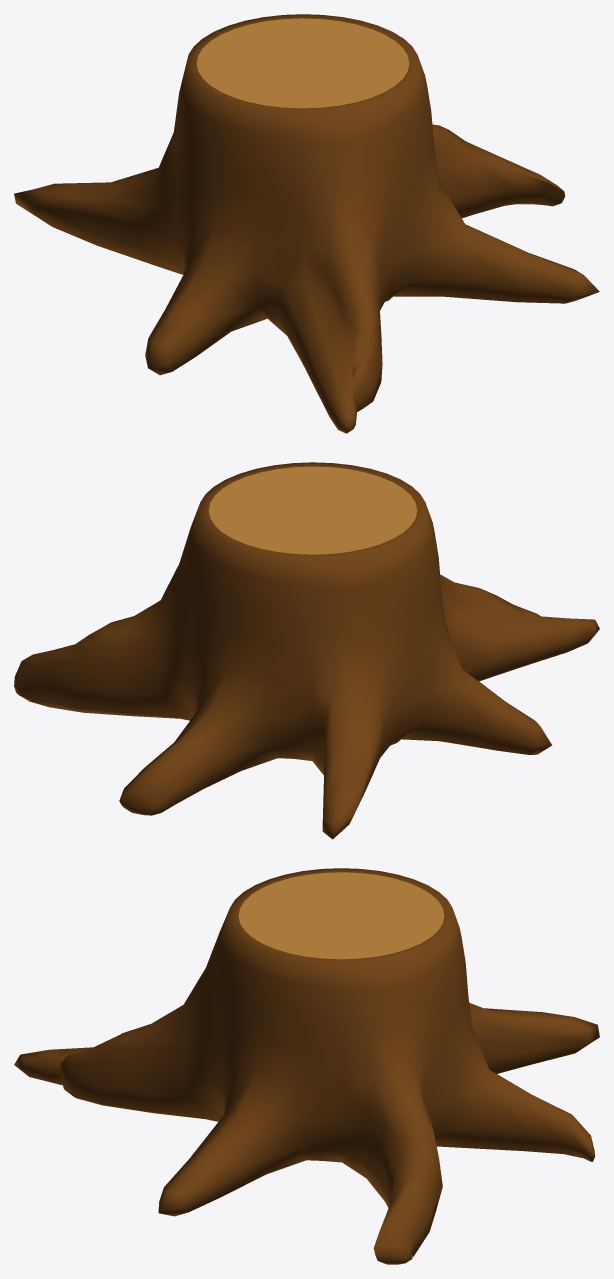
Rendered from tree_trunk(1).fbx.
The picture shows the model from 3 angles, top to bottom: view 1: azimuth 30°, elevation 25°; view 2: azimuth 150°, elevation 25°; view 3: azimuth 270°, elevation 25°; orthographic projection. The views are drawn at different scales.
Parts seen in each view (by area): view 1: Cylinder; view 2: Cylinder; view 3: Cylinder.
Part boxes in pixels (left/top/right/bottom): Cylinder: left=14, top=14, right=599, bottom=433; Cylinder: left=14, top=462, right=599, bottom=839; Cylinder: left=14, top=868, right=599, bottom=1264.
Size of the model in its own units: 473 by 222 by 518.
